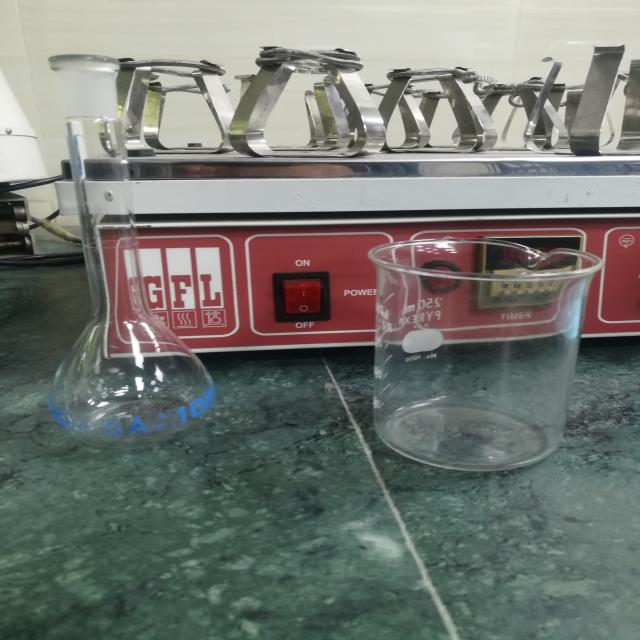Beaker: (338, 197, 614, 501)
Volumetric_Flask: (16, 28, 252, 467)
